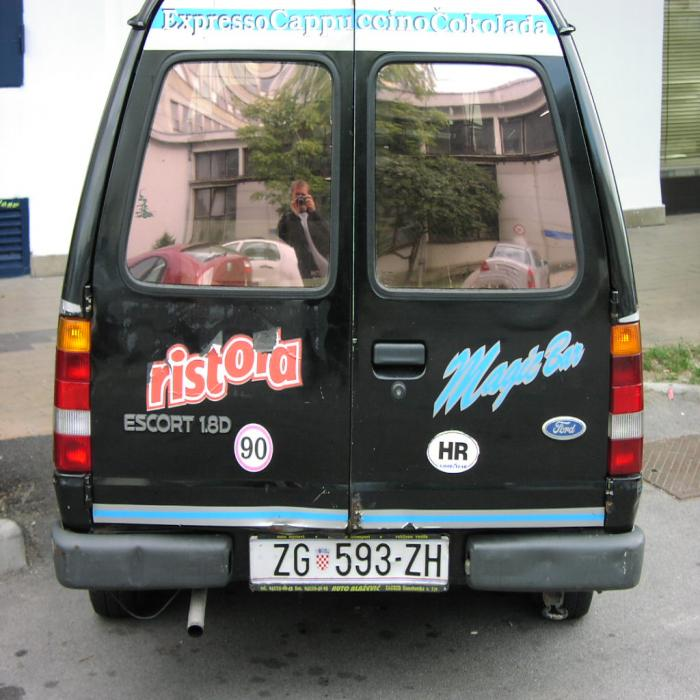number_plate: (250, 540, 448, 585)
